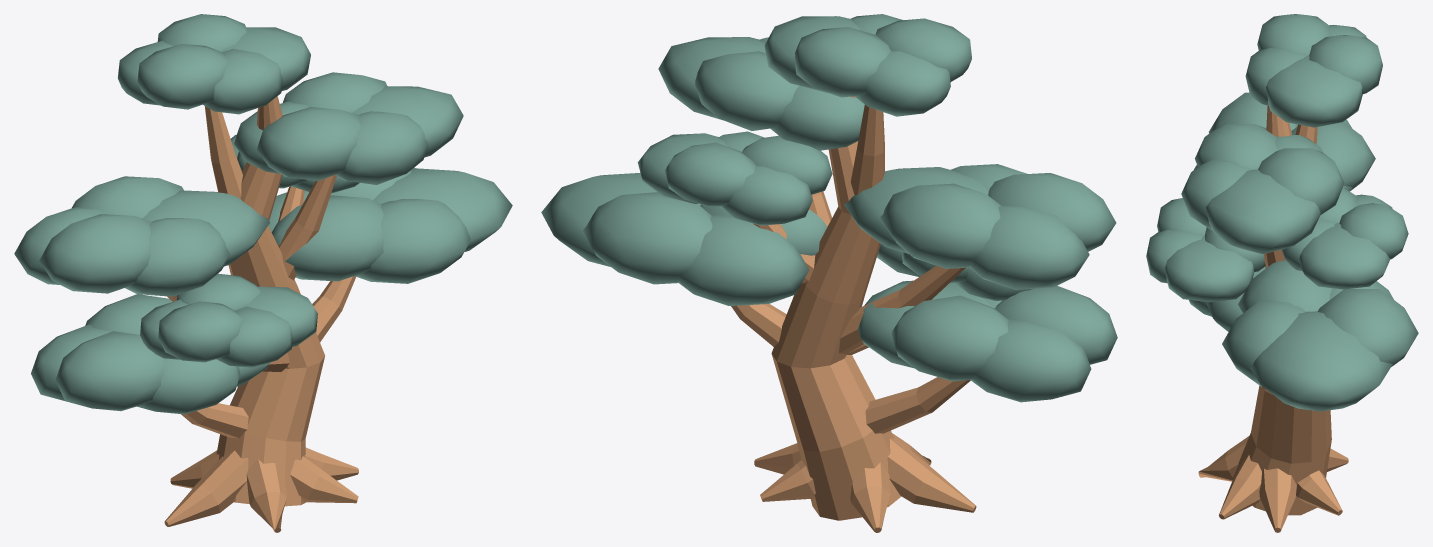
Rendered from Test_CheonRef_PineC.fbx.
3 views of the same model, side by side, from view 1: azimuth 30°, elevation 25°; view 2: azimuth 150°, elevation 25°; view 3: azimuth 270°, elevation 25° (orthographic). The views are drawn at different scales.
Parts seen in each view (by area): view 1: CurvedPineTrunk.002, VolumePineCanopy.083, VolumePineCanopy.073, VolumePineCanopy.079, VolumePineCanopy.078, VolumePineCanopy.088, VolumePineCanopy.084, VolumePineCanopy.075, VolumePineCanopy.089, VolumePineCanopy.093, VolumePineCanopy.080, VolumePineCanopy.098 (+26 smaller); view 2: CurvedPineTrunk.002, VolumePineCanopy.076, VolumePineCanopy.077, VolumePineCanopy.081, VolumePineCanopy.071, VolumePineCanopy.082, VolumePineCanopy.072, VolumePineCanopy.086, VolumePineCanopy.083, VolumePineCanopy.091, VolumePineCanopy.073, VolumePineCanopy.092 (+22 smaller); view 3: VolumePineCanopy.075, CurvedPineTrunk.002, VolumePineCanopy.085, VolumePineCanopy.090, VolumePineCanopy.076, VolumePineCanopy.095, VolumePineCanopy.100, VolumePineCanopy.086, VolumePineCanopy.079, VolumePineCanopy.078, VolumePineCanopy.091, VolumePineCanopy.088 (+18 smaller).
Boxes of the visible parts, box(x1,y1,x2,y2) form: CurvedPineTrunk.002: box(216, 96, 325, 506); VolumePineCanopy.083: box(39, 214, 151, 293); VolumePineCanopy.073: box(55, 331, 163, 411); VolumePineCanopy.079: box(354, 199, 470, 283); VolumePineCanopy.078: box(271, 195, 383, 281); VolumePineCanopy.088: box(257, 107, 360, 181); VolumePineCanopy.084: box(125, 218, 229, 296); VolumePineCanopy.075: box(373, 168, 512, 251); VolumePineCanopy.089: box(335, 111, 428, 184); VolumePineCanopy.093: box(137, 44, 227, 109); VolumePineCanopy.080: box(142, 190, 269, 266); VolumePineCanopy.098: box(158, 301, 243, 362); CurvedPineTrunk.002: box(771, 96, 901, 520); VolumePineCanopy.076: box(583, 192, 712, 284); VolumePineCanopy.077: box(678, 214, 808, 305); VolumePineCanopy.081: box(880, 183, 1001, 268); VolumePineCanopy.071: box(891, 295, 1008, 381); VolumePineCanopy.082: box(969, 205, 1089, 289); VolumePineCanopy.072: box(970, 319, 1091, 402); VolumePineCanopy.086: box(695, 51, 799, 130); VolumePineCanopy.083: box(988, 173, 1116, 251); VolumePineCanopy.091: box(794, 27, 890, 97); VolumePineCanopy.073: box(995, 285, 1117, 364); VolumePineCanopy.092: box(854, 51, 950, 116); VolumePineCanopy.075: box(1250, 311, 1392, 411); CurvedPineTrunk.002: box(1232, 105, 1331, 515); VolumePineCanopy.085: box(1206, 169, 1320, 253); VolumePineCanopy.090: box(1266, 55, 1362, 127); VolumePineCanopy.076: box(1318, 289, 1418, 366); VolumePineCanopy.095: box(1165, 236, 1254, 302); VolumePineCanopy.100: box(1298, 223, 1390, 289); VolumePineCanopy.086: box(1258, 148, 1344, 214); VolumePineCanopy.079: box(1222, 299, 1306, 386); VolumePineCanopy.078: box(1238, 260, 1331, 312); VolumePineCanopy.091: box(1309, 35, 1382, 94); VolumePineCanopy.088: box(1195, 124, 1277, 169).
Size of the model in its own units: 538 by 499 by 274.
